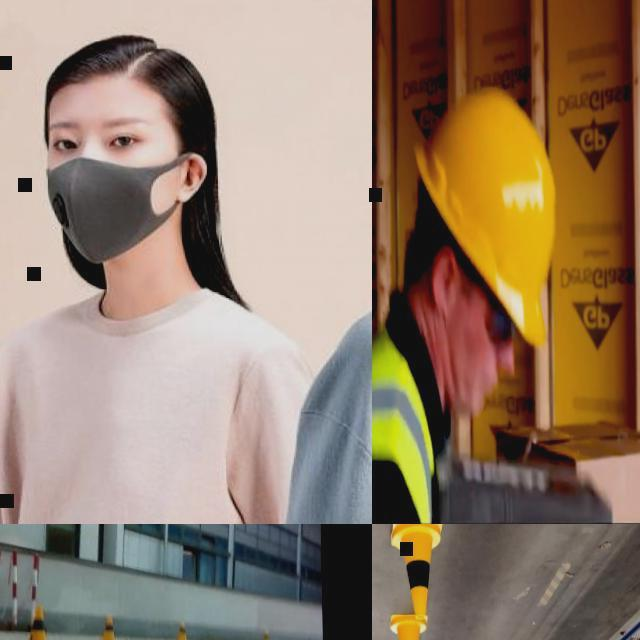helmet: (414, 83, 560, 351)
mask: (44, 150, 208, 269)
no_helmet: (43, 24, 215, 114)
no_mask: (445, 320, 489, 418)
no_vest: (17, 301, 269, 524)
person: (0, 21, 325, 524), (372, 78, 561, 524), (264, 0, 372, 524)
safety_cone: (389, 524, 445, 624), (390, 612, 431, 640), (24, 605, 53, 640), (102, 616, 118, 640), (179, 621, 190, 640), (264, 630, 272, 640)
vest: (372, 329, 436, 524)
